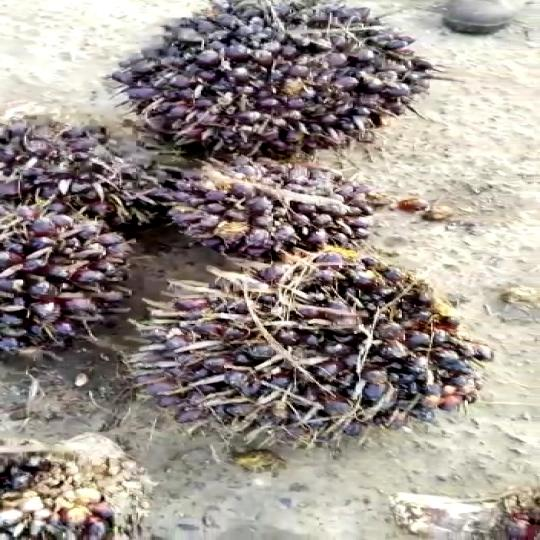mentah: (172, 264, 463, 445), (124, 0, 444, 164), (160, 157, 400, 266), (1, 108, 179, 230), (0, 202, 132, 355)
